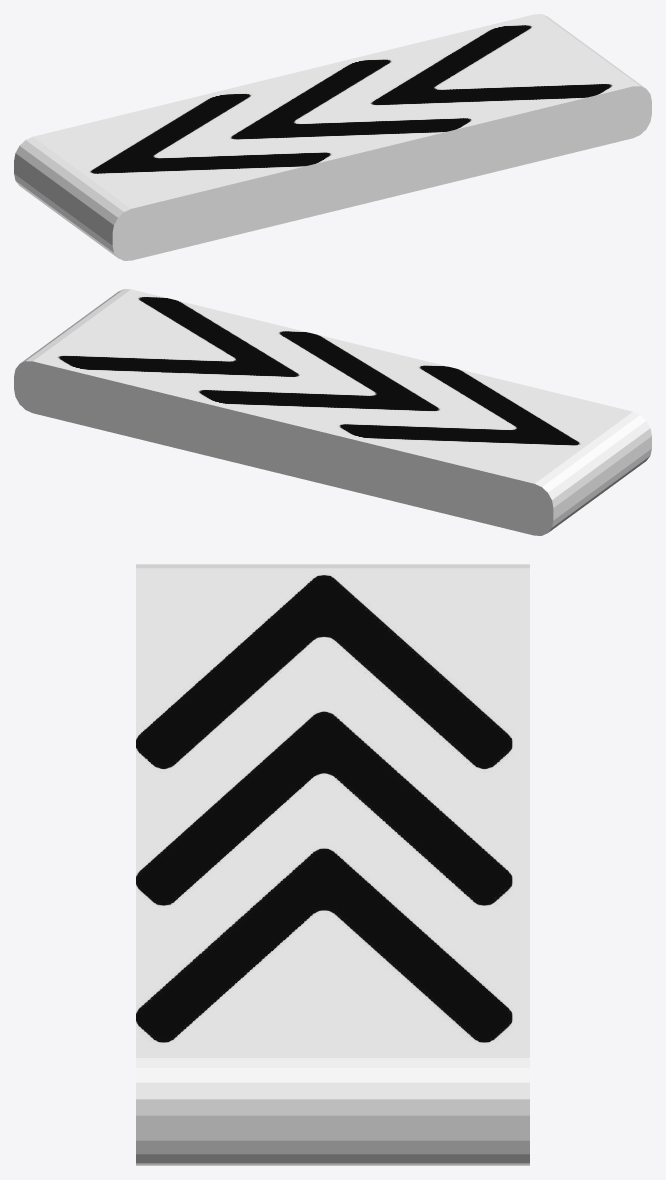
File: palet.fbx
3 views of the same model, one above another, from view 1: azimuth 30°, elevation 25°; view 2: azimuth 150°, elevation 25°; view 3: azimuth 270°, elevation 25° (orthographic). The views are drawn at different scales.
Visible parts, largest first — view 1: Cube; view 2: Cube; view 3: Cube.
Boxes of the visible parts, box(x1,y1,x2,y2) form: Cube: box(14, 14, 651, 260); Cube: box(14, 289, 651, 535); Cube: box(136, 564, 529, 1165).
Bounding box in the file's own units: 632 × 58.09 × 200.
Materials: 1 (1 with a texture image).
